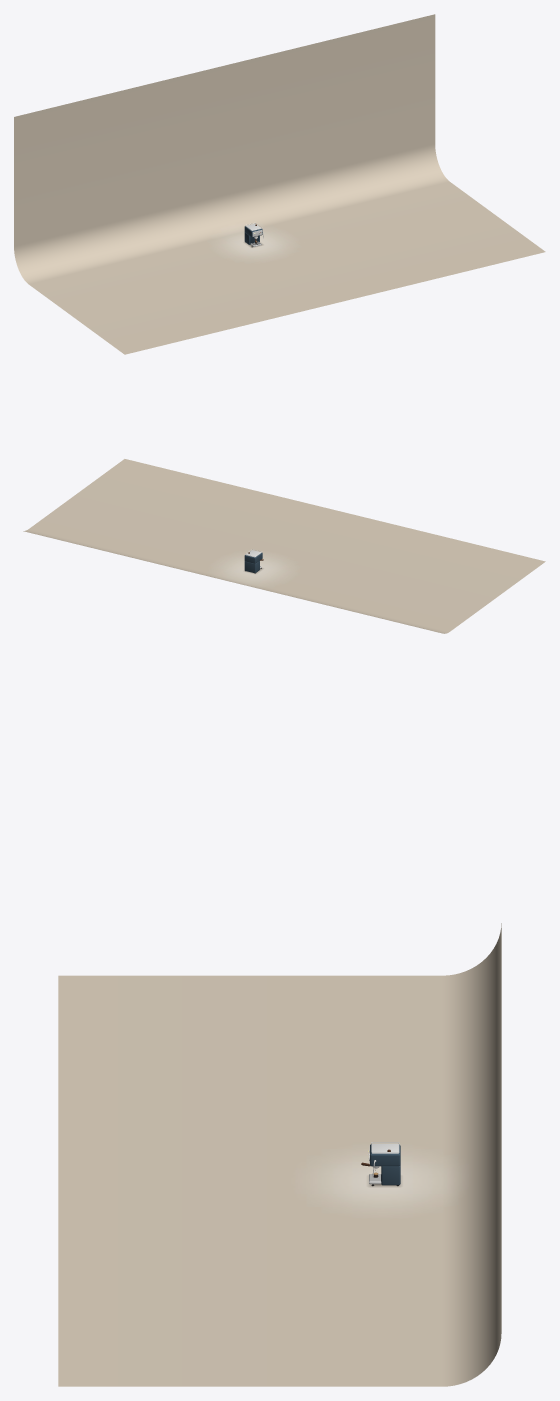
Rendered from espressobrewprogress_espresso.glb.
3 renders of one model, top to bottom at view 1: azimuth 30°, elevation 25°; view 2: azimuth 150°, elevation 25°; view 3: azimuth 270°, elevation 25°, orthographic. The views are drawn at different scales.
Visible parts, largest first — view 1: Sweep; view 2: Sweep; view 3: Sweep.
Part boxes in pixels (x1,y1,x2,y2): Sweep: (14, 14, 545, 354); Sweep: (23, 459, 545, 633); Sweep: (58, 923, 501, 1386).
Bounding box in the file's own units: 9 × 3.2 × 4.1.
Materials: 20 (3 with a texture image).
